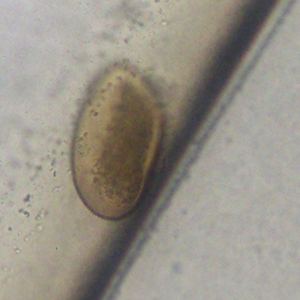Fasciola_hepatica_egg: (68, 56, 166, 222)
